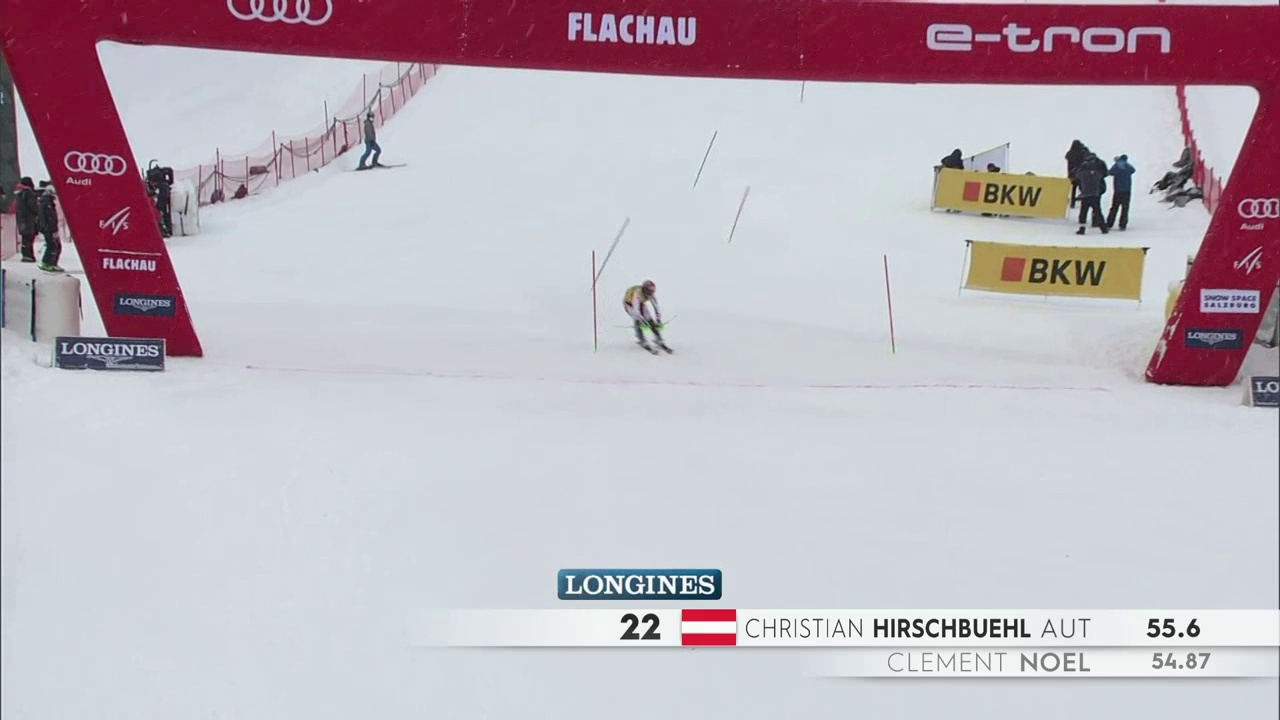audi: (225, 1, 337, 32), (64, 148, 134, 180), (1238, 195, 1279, 227)
etron: (940, 20, 1157, 62)
flachau: (570, 2, 695, 53)
longines: (561, 570, 728, 599), (57, 341, 172, 372)
